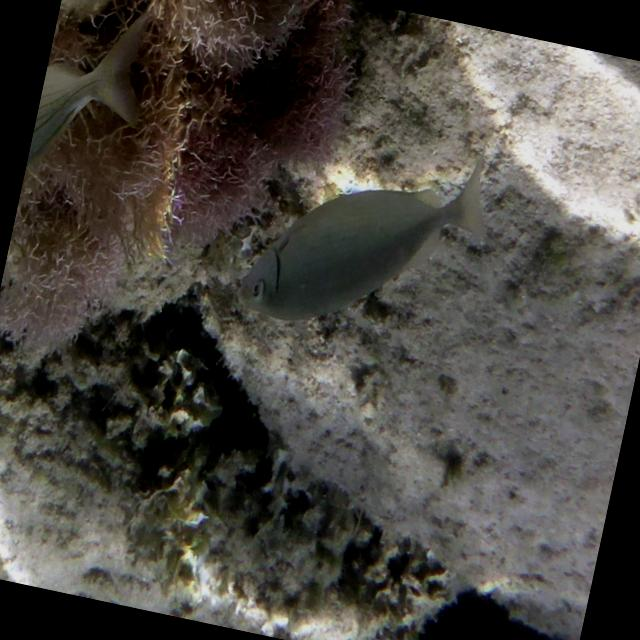Sokar Baligi: (227, 97, 506, 369)
